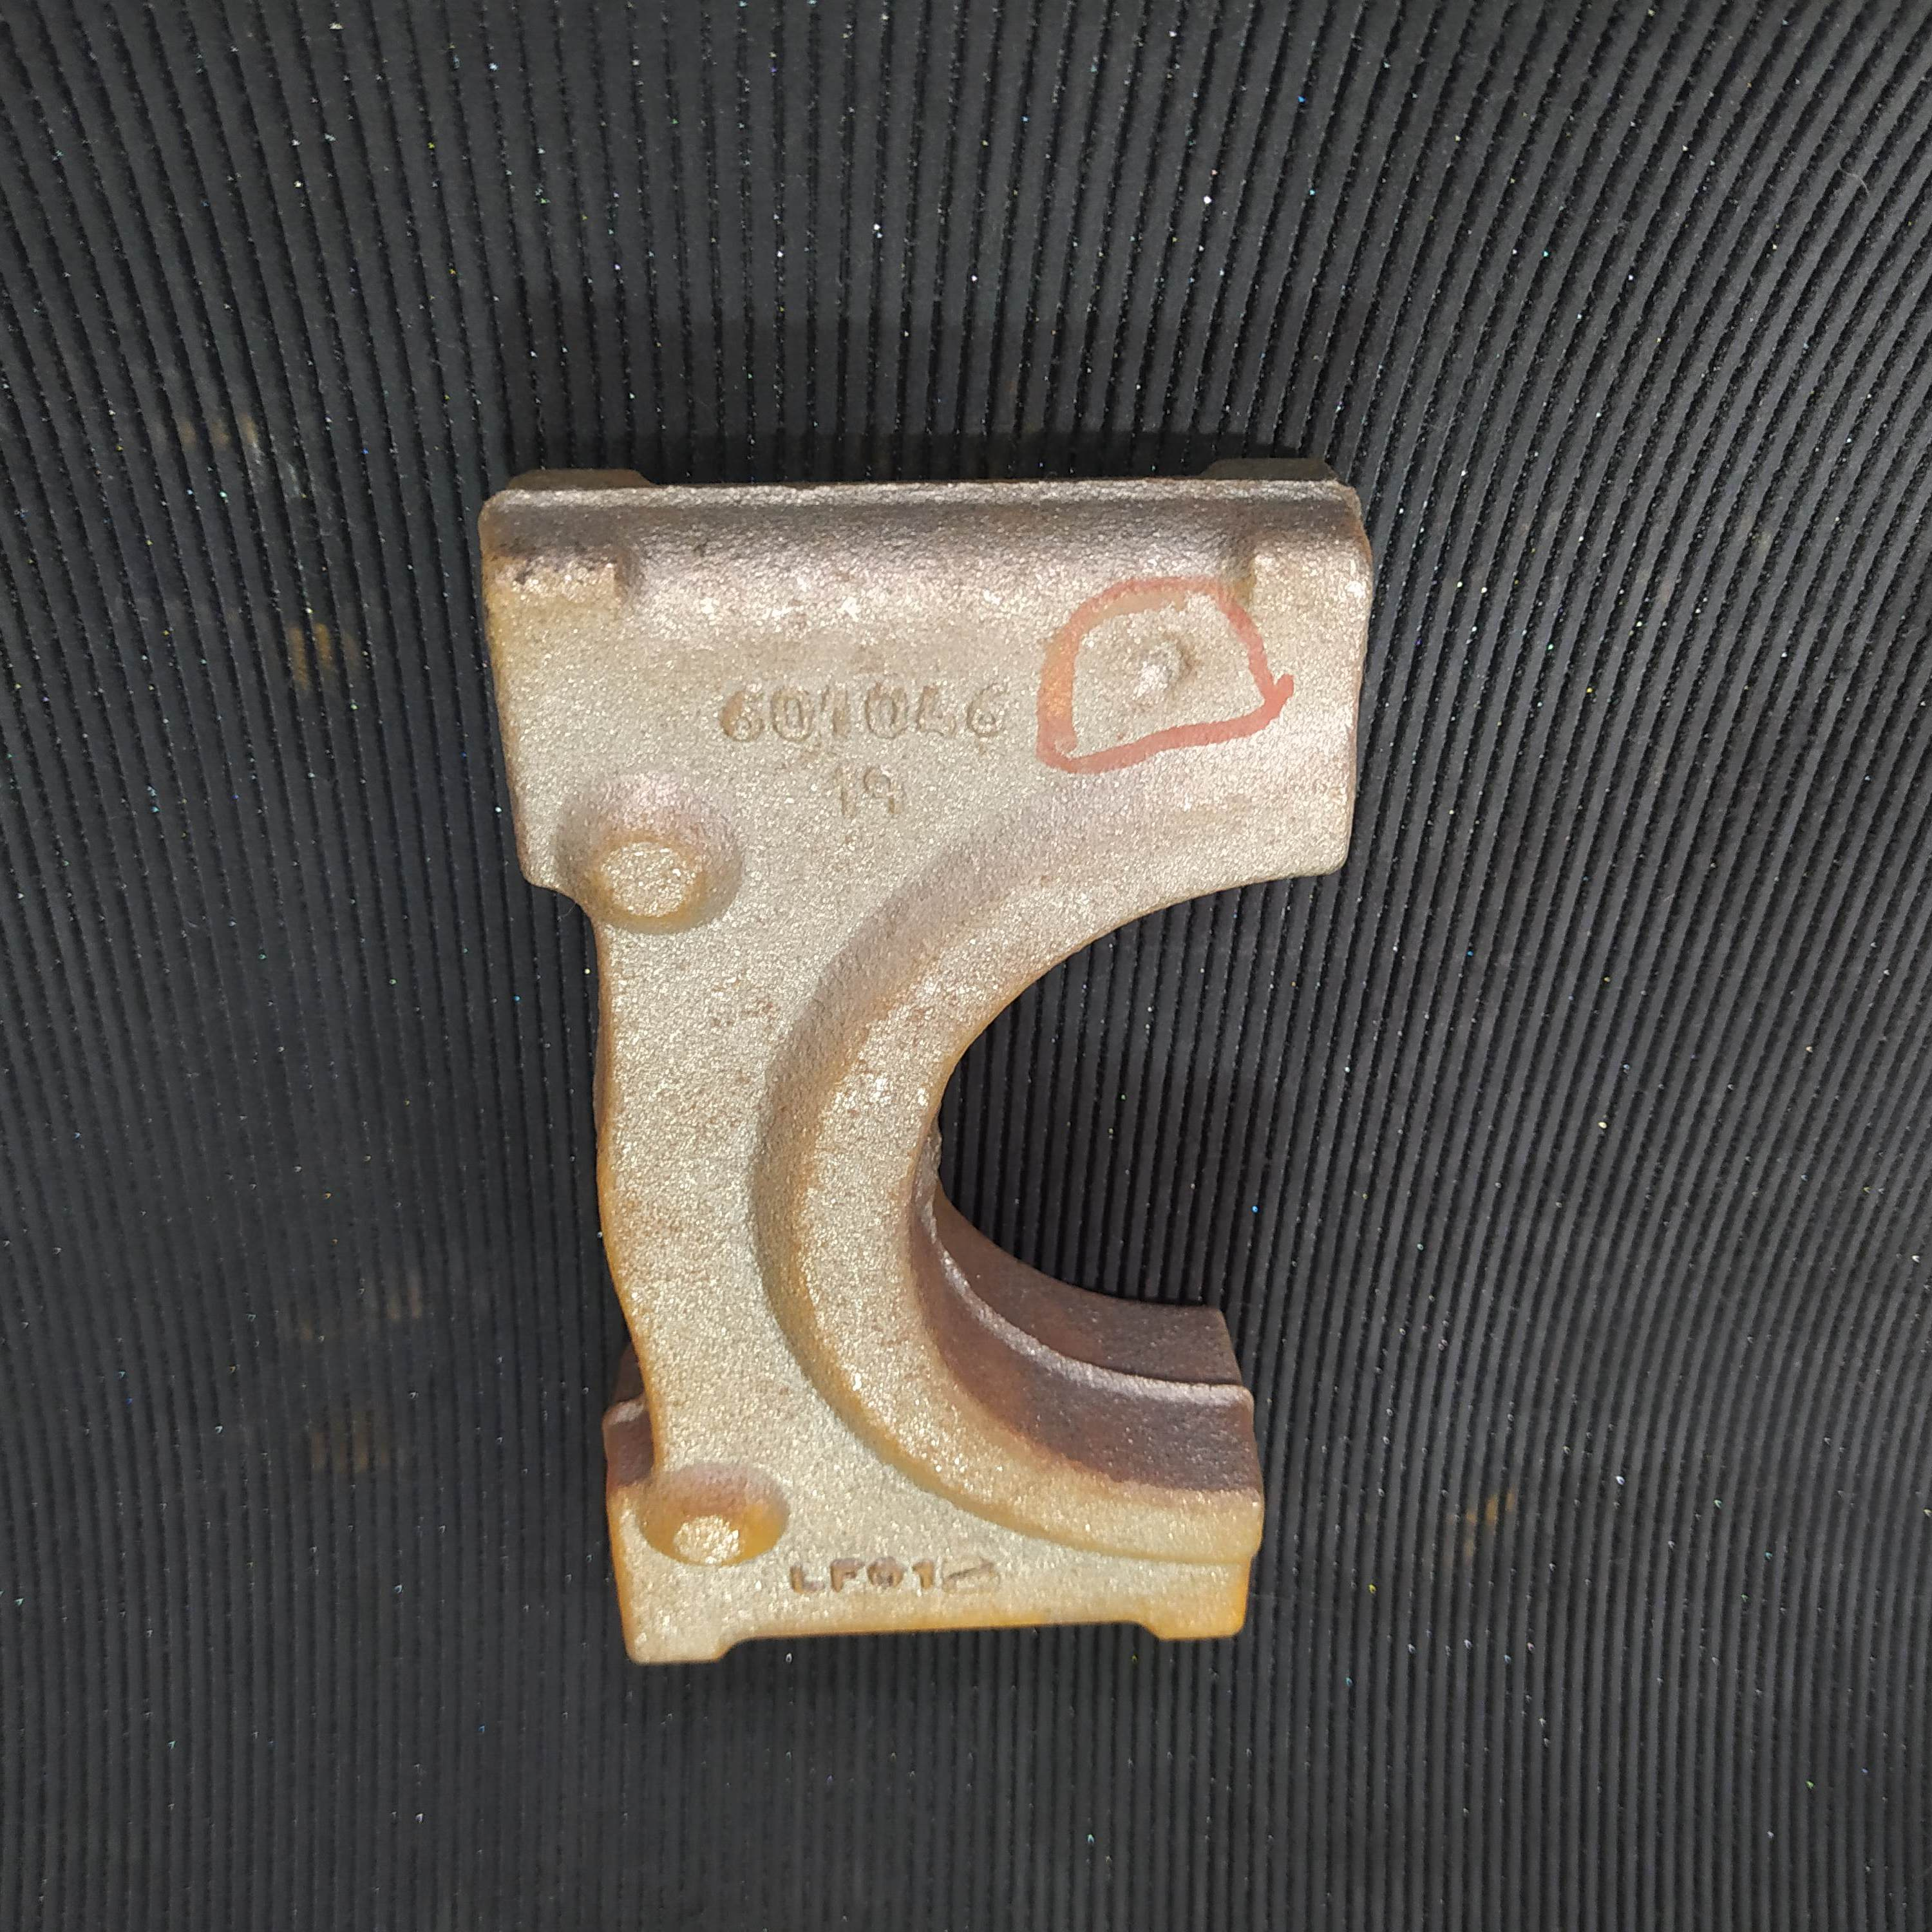buraco: (1131, 625, 1198, 701)
